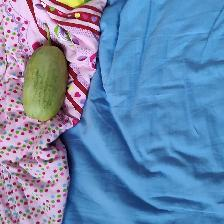gua: (29, 47, 58, 116)
